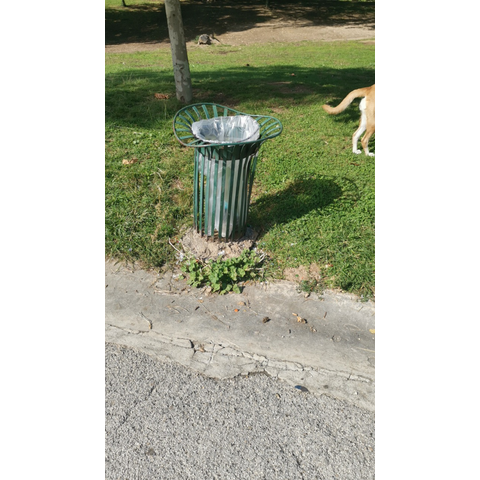poubelle: (171, 102, 285, 245)
